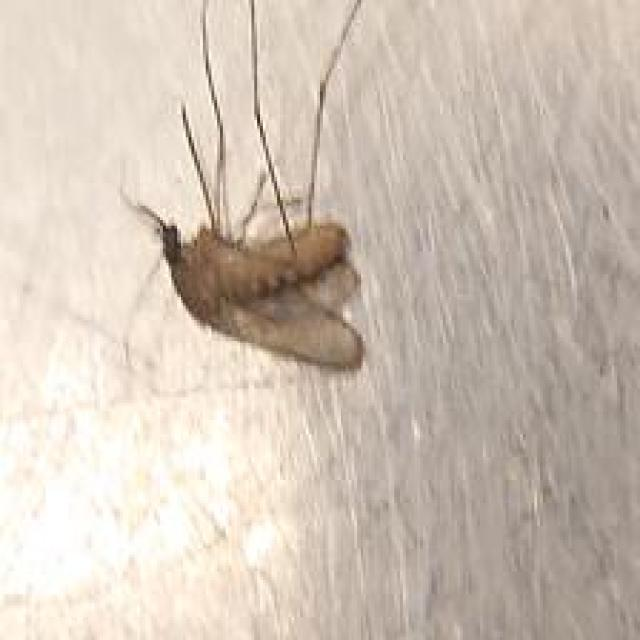Culex: (117, 0, 380, 374)
